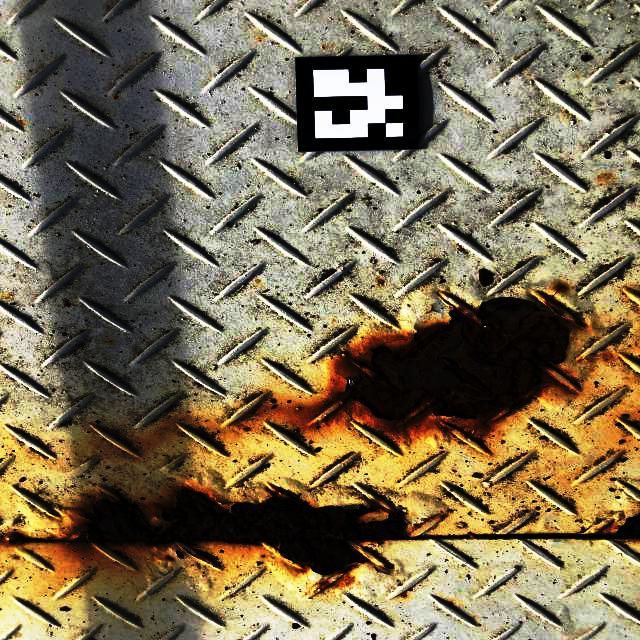Corrosion: (284, 283, 591, 444), (0, 479, 412, 589), (597, 507, 640, 540)
